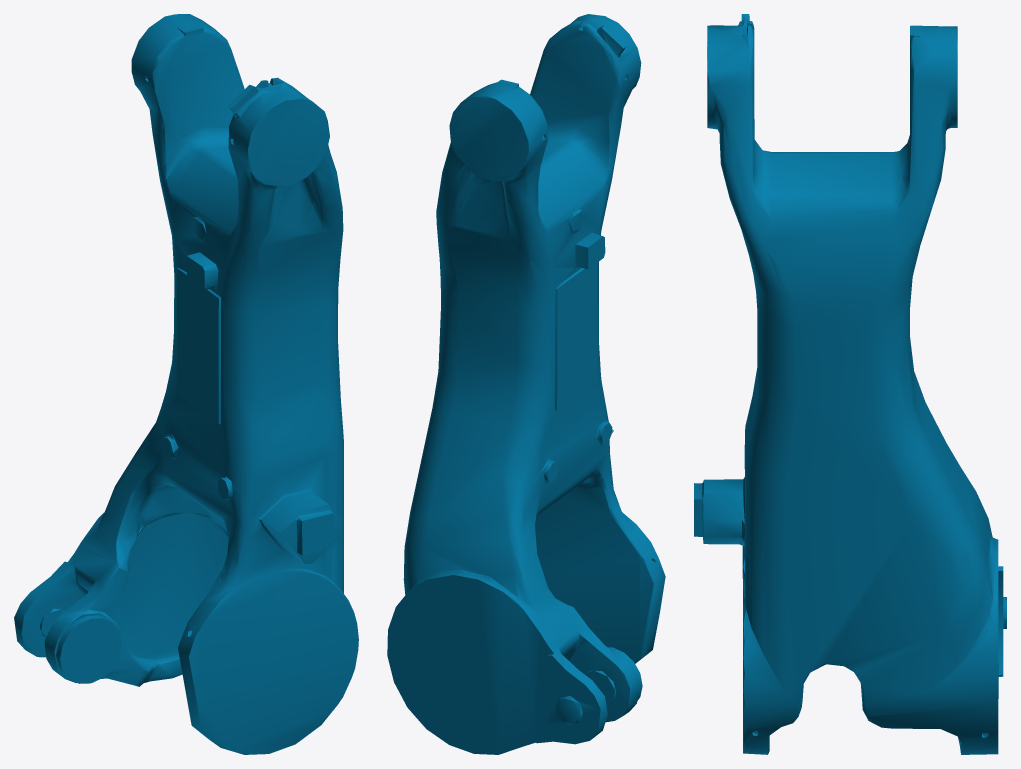
3 renders of one model, left to right at view 1: azimuth 30°, elevation 25°; view 2: azimuth 150°, elevation 25°; view 3: azimuth 270°, elevation 25°, orthographic. The views are drawn at different scales.
Parts seen in each view (by area): view 1: mh00400-j00_lk2; view 2: mh00400-j00_lk2; view 3: mh00400-j00_lk2.
Boxes of the visible parts, x1,y1,x2,y2 form: mh00400-j00_lk2: [14, 14, 358, 754]; mh00400-j00_lk2: [387, 14, 665, 754]; mh00400-j00_lk2: [694, 14, 1006, 754].
Size of the model in its own units: 0.4646 by 0.5223 by 1.33.
